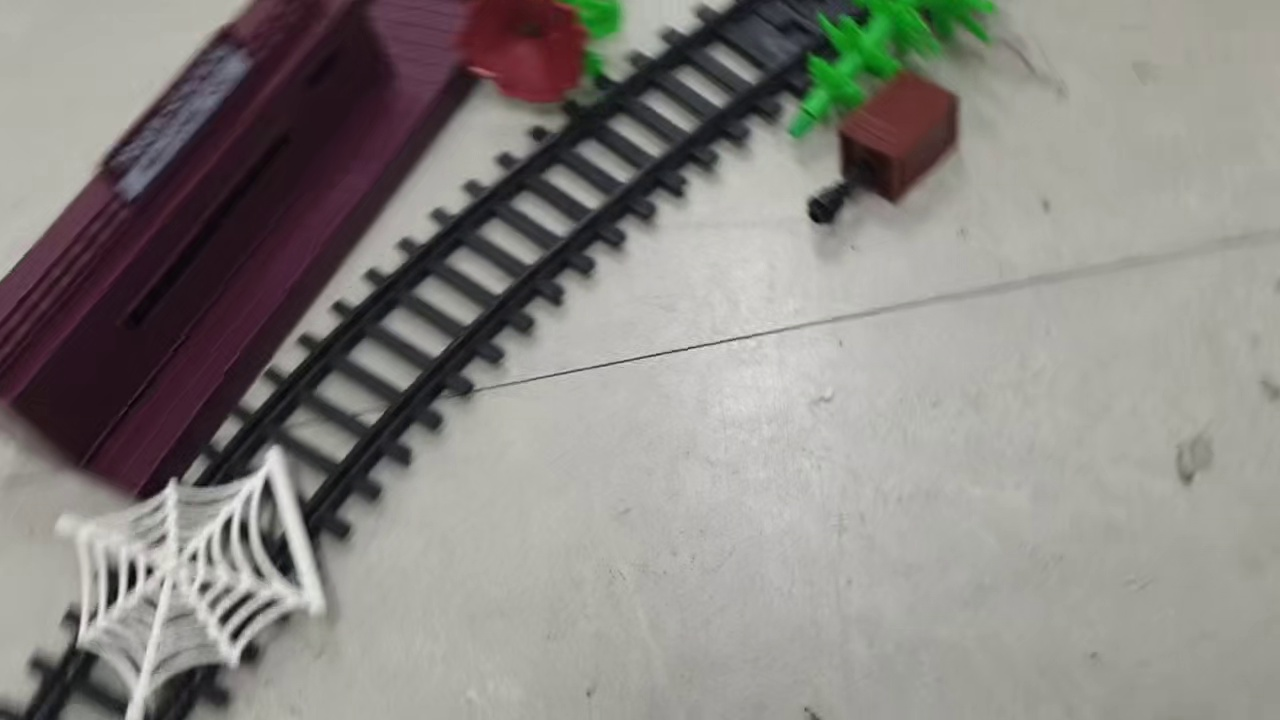box: (806, 65, 959, 230)
tree: (788, 1, 995, 140), (463, 1, 625, 101)
web: (52, 443, 329, 720)
